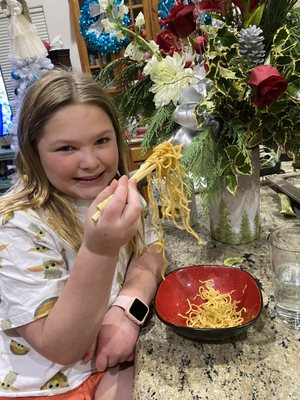pizza: (268, 226, 300, 320)
sushi: (154, 265, 263, 343)
